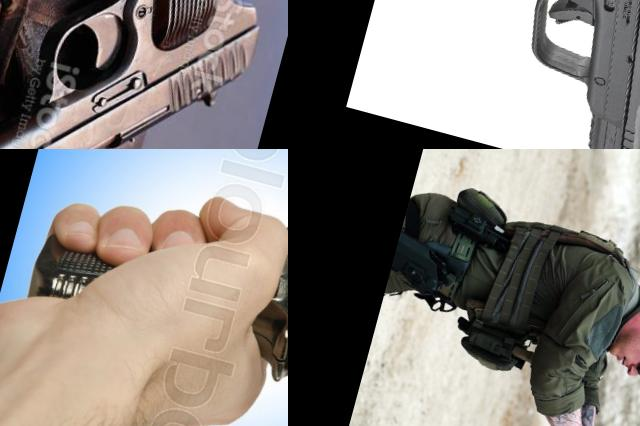handgun: (17, 149, 288, 407), (0, 0, 288, 149), (353, 0, 640, 149)
